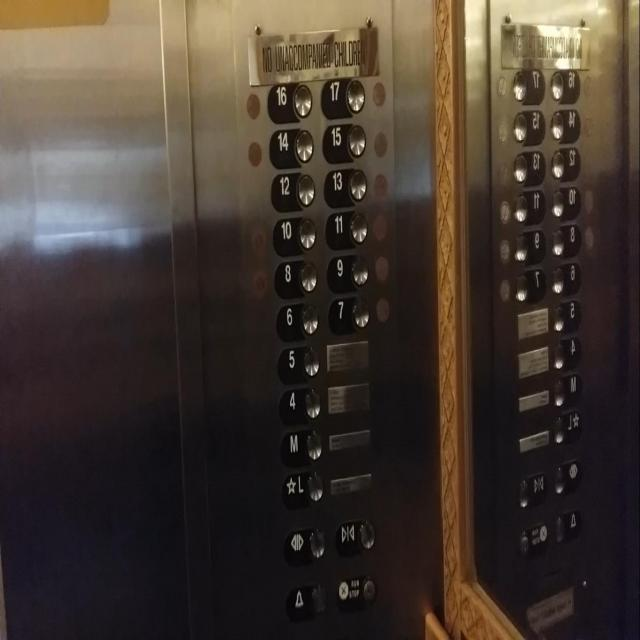10: (272, 215, 317, 256)
11: (274, 256, 318, 298), (325, 209, 368, 250)
12: (270, 170, 316, 212)
13: (322, 168, 367, 206)
14: (269, 125, 314, 167)
15: (322, 120, 367, 163)
16: (266, 80, 314, 123)
17: (319, 75, 366, 119)
4: (278, 386, 322, 424)
5: (278, 342, 322, 382)
6: (274, 302, 320, 341)
7: (328, 295, 370, 333)
9: (326, 252, 369, 292)
M: (280, 427, 324, 464), (551, 373, 580, 406)
alarm: (286, 581, 328, 618), (552, 508, 582, 542)
close: (335, 517, 377, 555), (515, 473, 547, 509)
open: (284, 522, 328, 562), (551, 459, 580, 497)
sL: (282, 468, 324, 507)
stop: (336, 572, 378, 608), (518, 518, 549, 555)
unknown: (511, 63, 546, 104), (512, 104, 546, 146), (512, 226, 546, 266), (512, 185, 546, 224), (512, 268, 545, 307), (512, 147, 546, 183), (550, 143, 581, 180), (550, 65, 580, 103), (550, 106, 580, 142), (551, 298, 582, 332), (551, 335, 582, 369), (551, 184, 580, 220), (550, 260, 580, 293), (550, 223, 581, 254), (551, 411, 580, 444)
